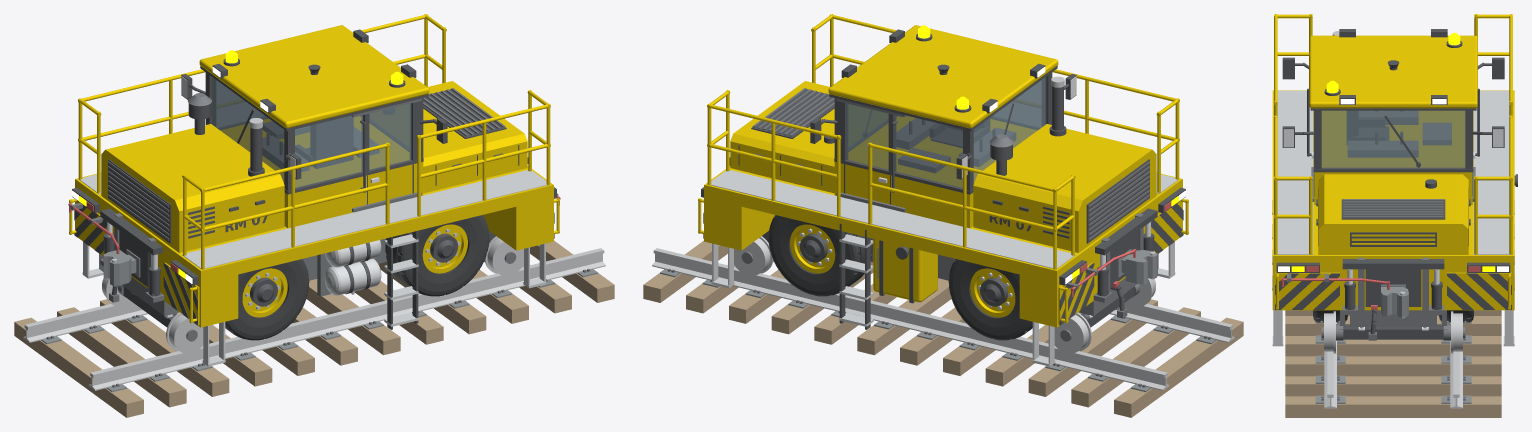
File: railcar-mover.glb
The picture shows the model from 3 angles, left to right: view 1: azimuth 30°, elevation 25°; view 2: azimuth 150°, elevation 25°; view 3: azimuth 270°, elevation 25°; orthographic projection. The views are drawn at different scales.
Parts seen in each view (by area): view 1: rims, hubs, ties, rails, walkway_treads, fuel_gauge, spikes, tyres, tie_plates; view 2: rims, hubs, ties, rails, walkway_treads, fuel_gauge, spikes, tyres, tie_plates; view 3: rims, ties, hubs, walkway_treads, fuel_gauge, spikes, rails, tie_plates, weight_transfer_rod, tail_lights, tyres, indicators (+1 smaller).
Part boxes in pixels (left/top/right/bottom): rims: left=69, top=14, right=559, bottom=327; hubs: left=72, top=29, right=556, bottom=329; ties: left=14, top=240, right=614, bottom=417; rails: left=23, top=118, right=605, bottom=390; walkway_treads: left=79, top=170, right=546, bottom=366; fuel_gauge: left=211, top=77, right=411, bottom=188; spikes: left=46, top=88, right=590, bottom=387; tyres: left=225, top=215, right=489, bottom=340; tie_plates: left=41, top=249, right=597, bottom=392; rims: left=698, top=14, right=1188, bottom=327; hubs: left=701, top=29, right=1185, bottom=329; ties: left=643, top=240, right=1243, bottom=417; rails: left=652, top=76, right=1234, bottom=390; walkway_treads: left=711, top=170, right=1178, bottom=366; fuel_gauge: left=846, top=77, right=1046, bottom=279; spikes: left=667, top=88, right=1211, bottom=387; tyres: left=768, top=215, right=1032, bottom=340; tie_plates: left=660, top=164, right=1216, bottom=392; rims: left=1272, top=14, right=1514, bottom=310; ties: left=1285, top=310, right=1501, bottom=417; hubs: left=1275, top=29, right=1517, bottom=339; walkway_treads: left=1272, top=90, right=1514, bottom=346; fuel_gauge: left=1321, top=110, right=1465, bottom=167; spikes: left=1287, top=111, right=1475, bottom=400; rails: left=1324, top=30, right=1462, bottom=408; tie_plates: left=1315, top=284, right=1471, bottom=403; weight_transfer_rod: left=1283, top=129, right=1503, bottom=330; tail_lights: left=1281, top=266, right=1480, bottom=310; tyres: left=1313, top=310, right=1473, bottom=322; indicators: left=1291, top=32, right=1495, bottom=271.
Bounding box in the file's own units: 6.8 × 3.25 × 2.94.
